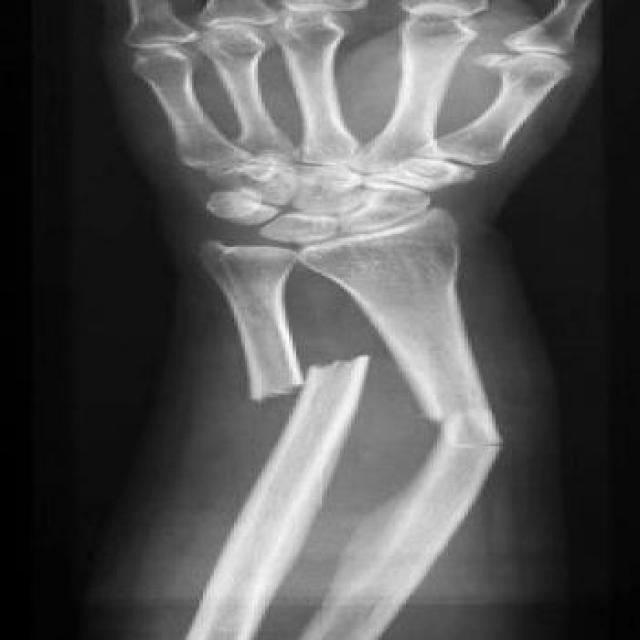Fracture: (232, 345, 373, 407), (412, 404, 535, 459)
